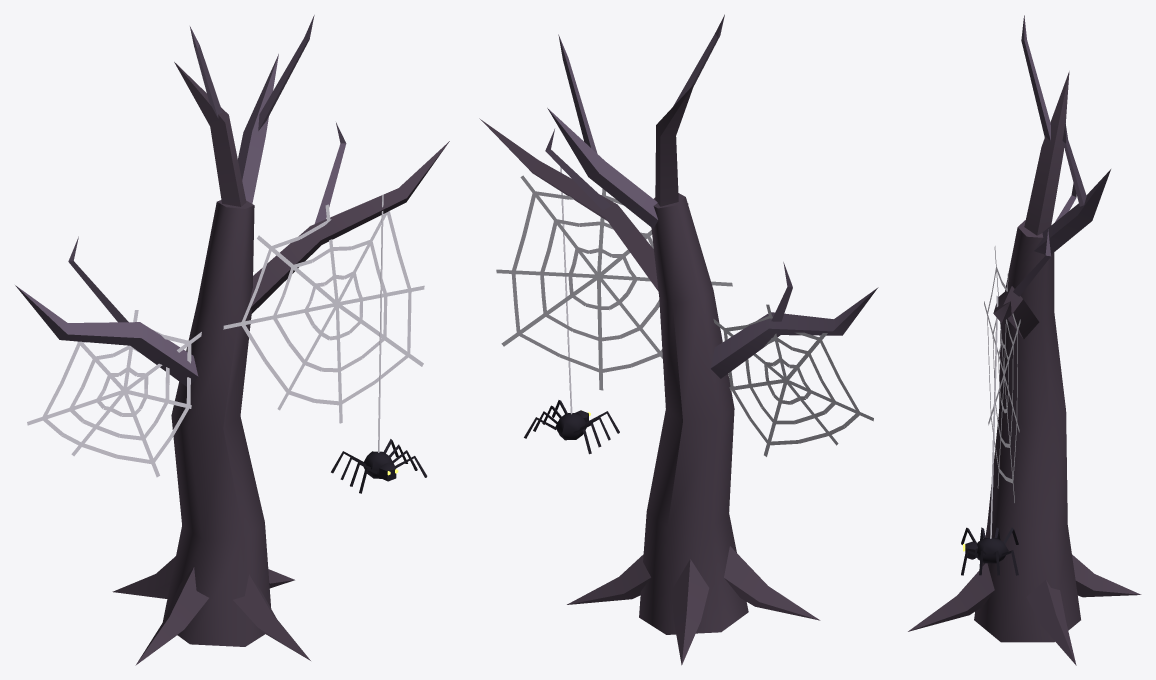
Rendered from spider_web_tree.glb.
The picture shows the model from 3 angles, left to right: view 1: azimuth 30°, elevation 25°; view 2: azimuth 150°, elevation 25°; view 3: azimuth 270°, elevation 25°; orthographic projection. The views are drawn at different scales.
Visible parts, largest first — view 1: spider_web_tree; view 2: spider_web_tree; view 3: spider_web_tree.
Boxes of the visible parts, x1,y1,x2,y2 form: spider_web_tree: (15,15,449,665); spider_web_tree: (479,14,878,665); spider_web_tree: (908,15,1141,665).
Bounding box in the file's own units: 2.8 × 3.92 × 1.4.
